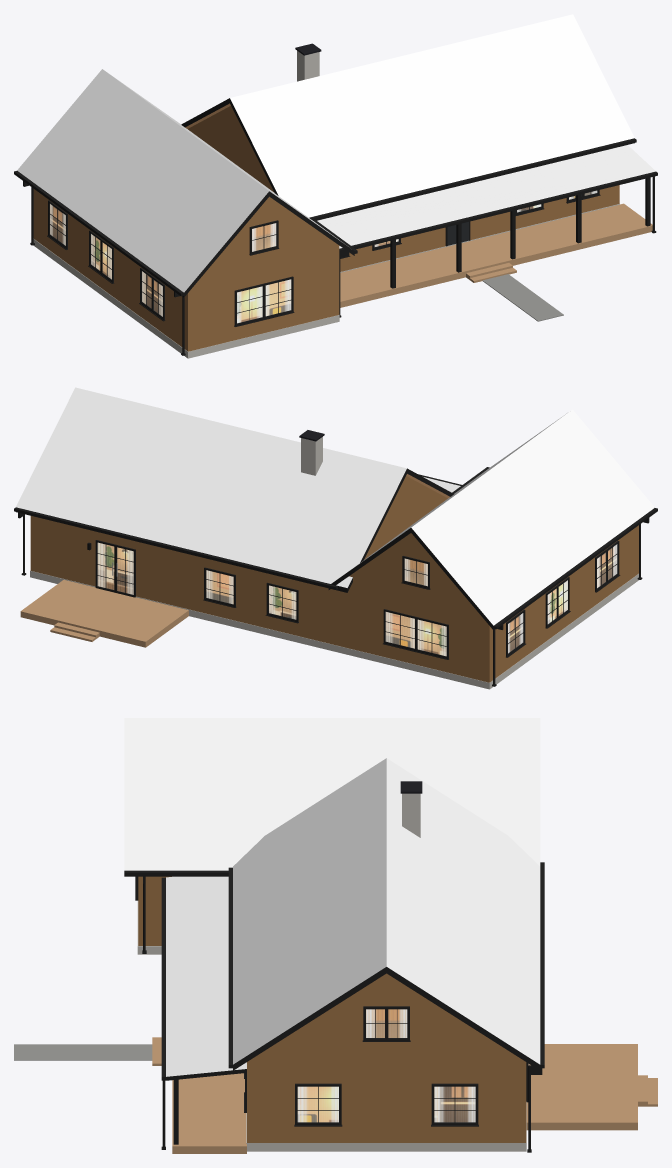
File: hobe222_c0_p0_m1.glb
The picture shows the model from 3 angles, top to bottom: view 1: azimuth 30°, elevation 25°; view 2: azimuth 150°, elevation 25°; view 3: azimuth 270°, elevation 25°; orthographic projection. The views are drawn at different scales.
Parts seen in each view (by area): view 1: roof, wall, deck, fascia, plinth, room, frame, glass, sheer, paving; view 2: roof, wall, deck, room, glass, fascia, frame, plinth, sheer; view 3: roof, wall, deck, fascia, plinth, glass, room, frame, paving, sheer.
Boxes of the visible parts, <box> form: roof: <box>17,14,655,292</box>; wall: <box>33,106,619,351</box>; deck: <box>340,203,652,307</box>; fascia: <box>14,98,657,355</box>; plinth: <box>33,50,619,358</box>; room: <box>50,191,596,322</box>; frame: <box>47,190,600,326</box>; glass: <box>50,191,596,322</box>; sheer: <box>50,190,597,323</box>; paving: <box>482,274,563,321</box>; roof: <box>16,387,654,625</box>; wall: <box>30,476,638,682</box>; deck: <box>20,580,188,647</box>; room: <box>98,543,616,655</box>; glass: <box>98,543,616,655</box>; fascia: <box>14,467,657,686</box>; frame: <box>95,540,620,659</box>; plinth: <box>30,437,638,689</box>; sheer: <box>97,542,617,655</box>; roof: <box>124,718,540,1076</box>; wall: <box>138,876,526,1142</box>; deck: <box>152,1037,657,1153</box>; fascia: <box>124,862,544,1152</box>; plinth: <box>137,793,526,1151</box>; glass: <box>298,1010,474,1121</box>; room: <box>298,1009,474,1122</box>; frame: <box>135,876,528,1126</box>; paving: <box>14,1044,152,1060</box>; sheer: <box>297,1009,475,1122</box>.
Size of the model in its own units: 23.04 by 7.67 by 20.74.
Materials: 16 (6 with a texture image).
